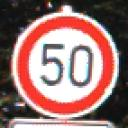speed_limit_50: (11, 11, 117, 120)
